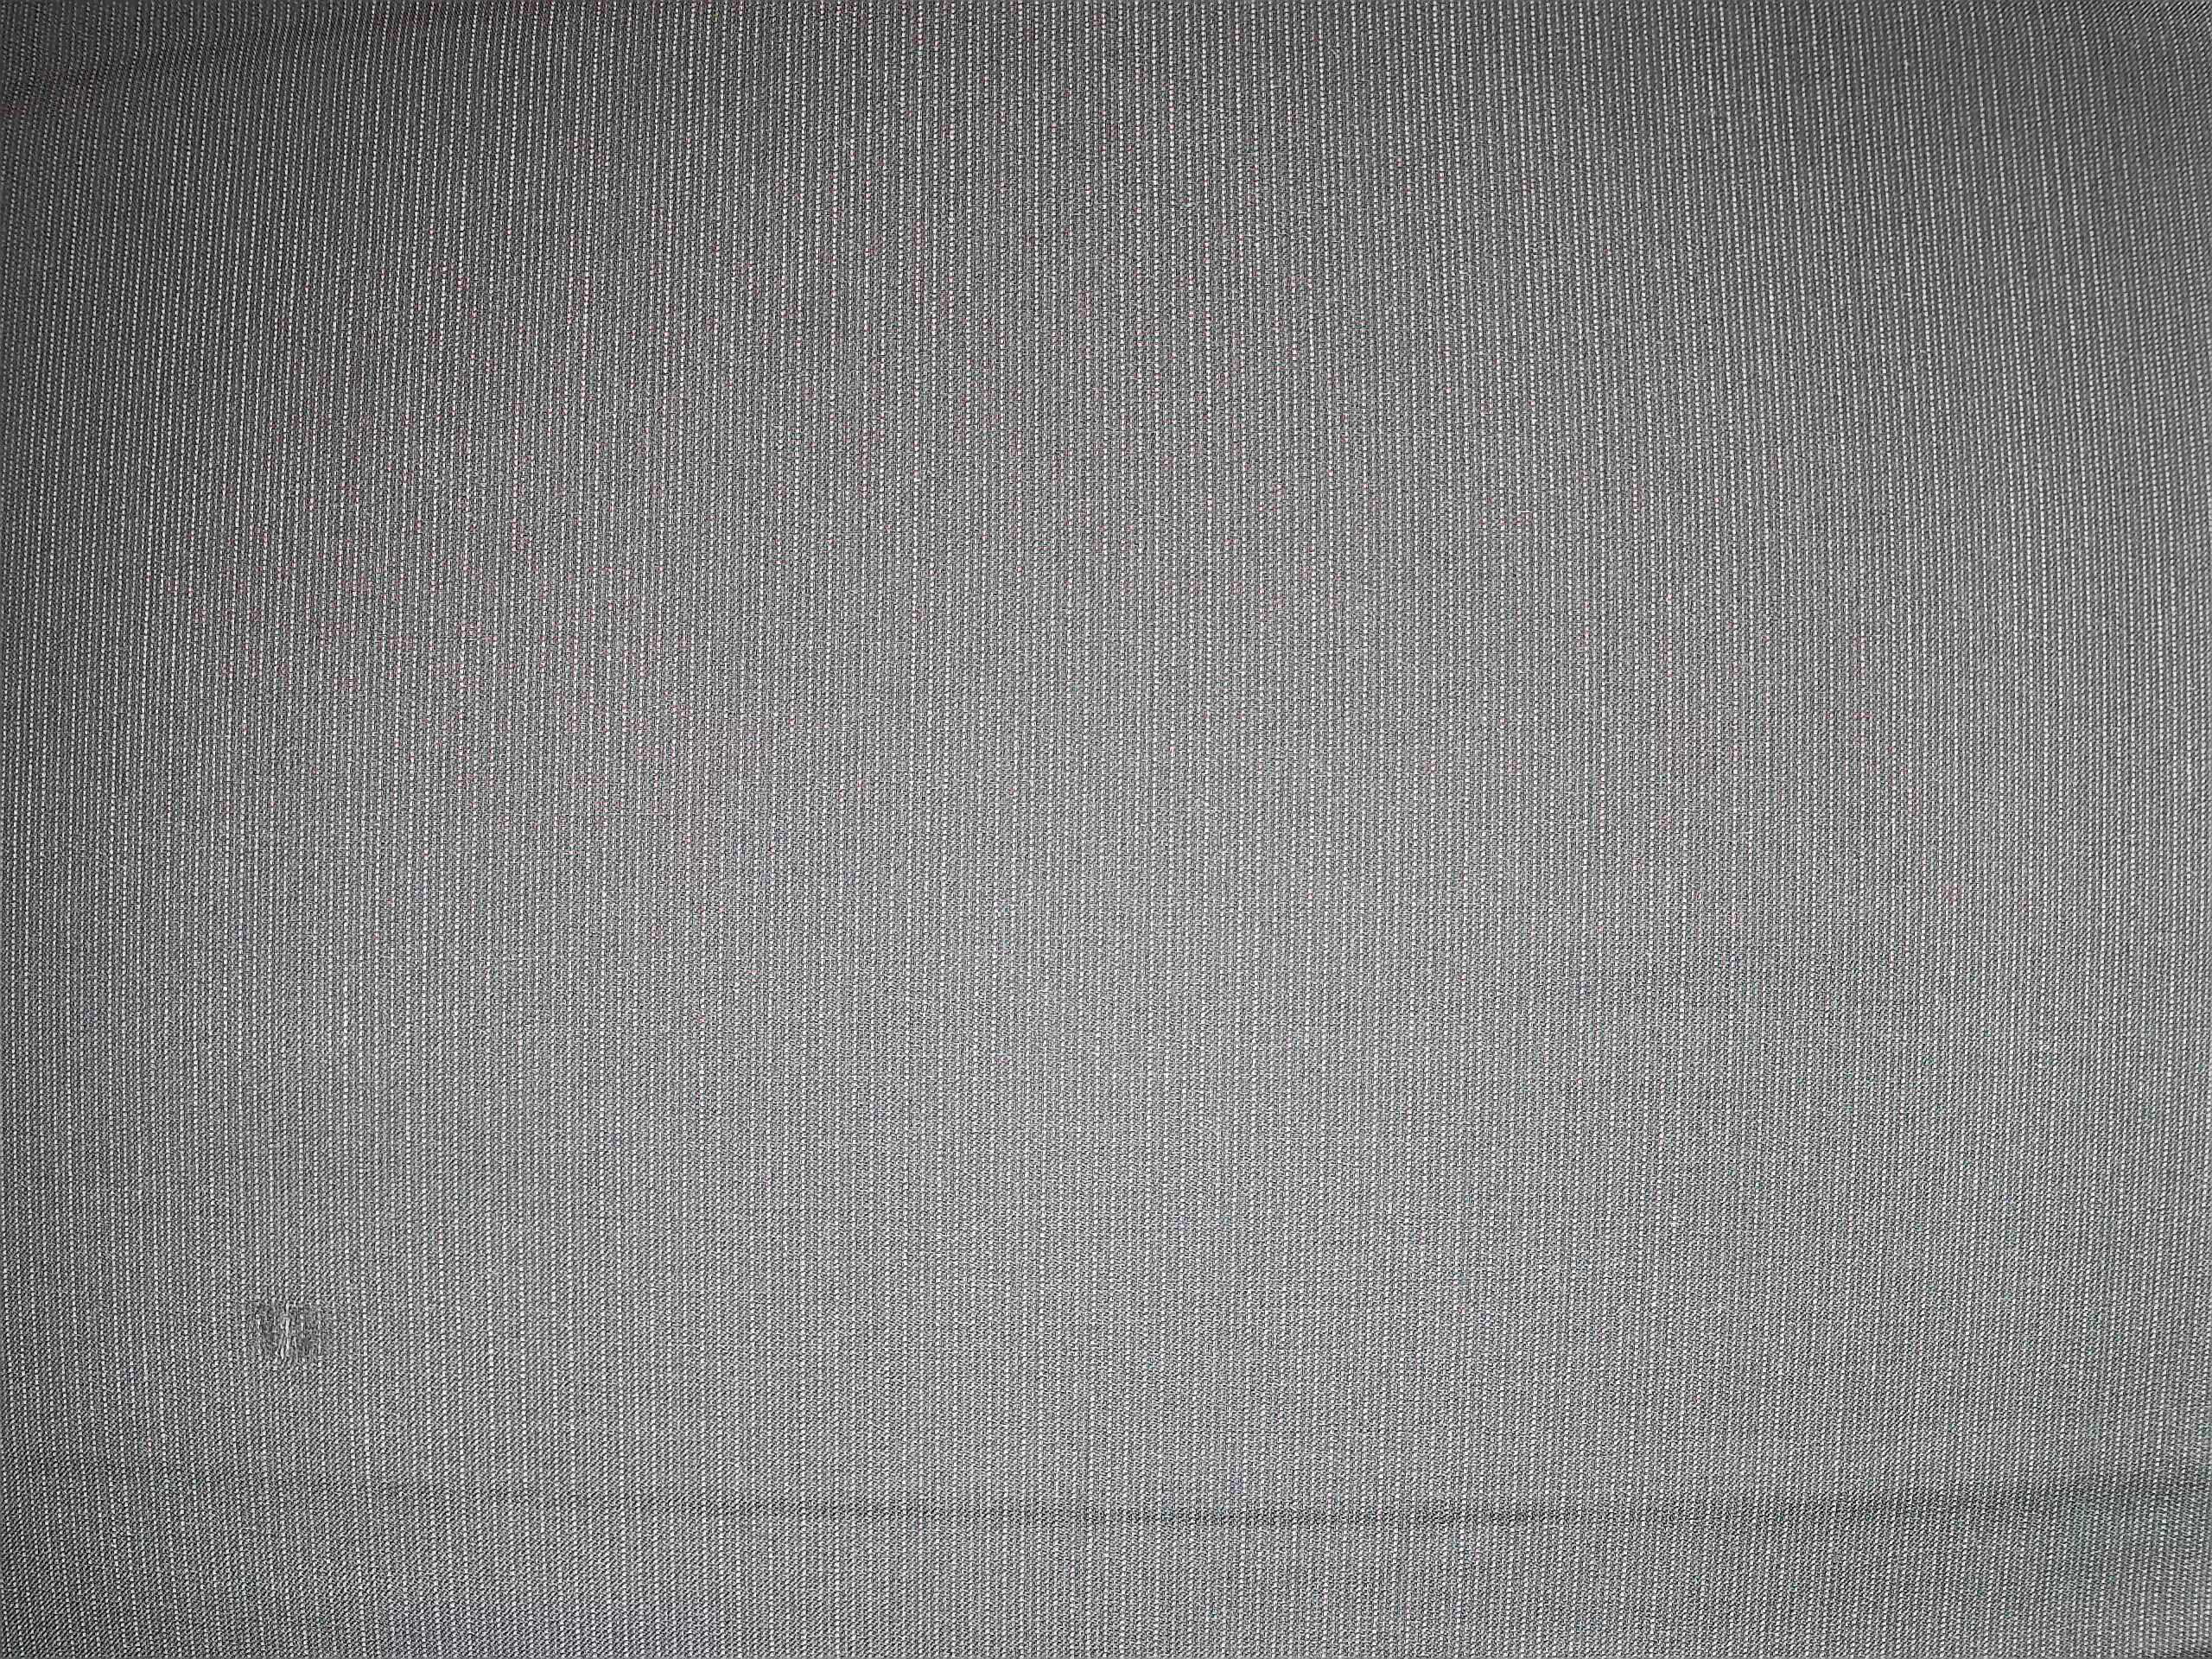knots: (230, 1283, 345, 1384)
